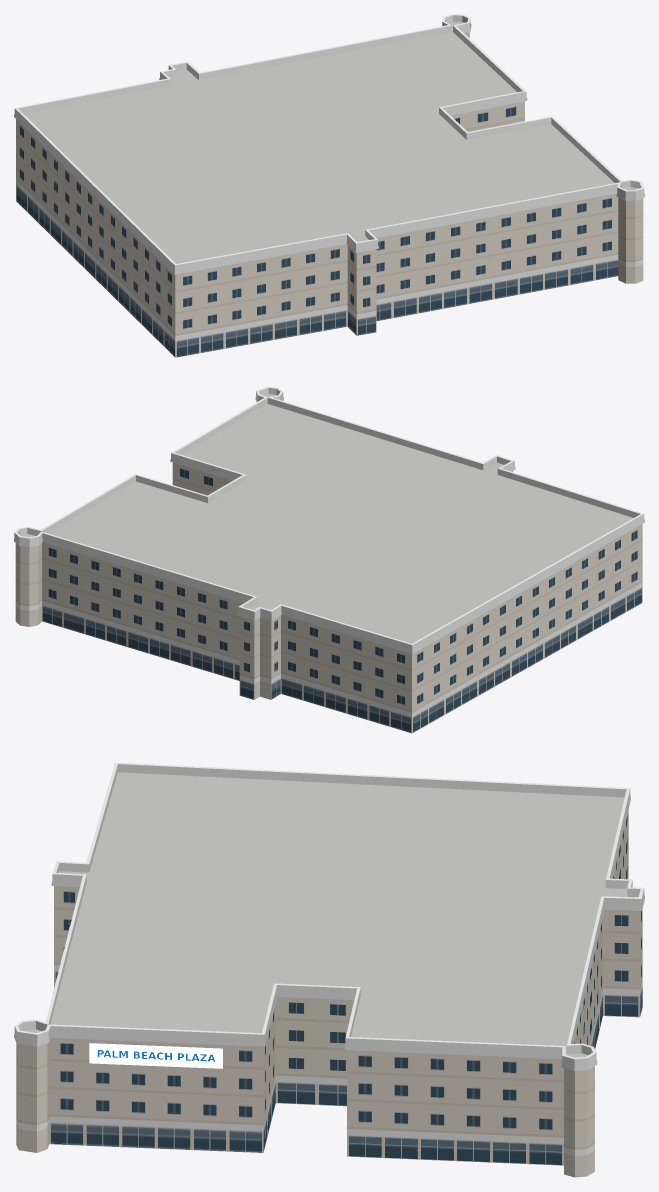
File: pbplaza.glb
The picture shows the model from 3 angles, top to bottom: view 1: azimuth 30°, elevation 25°; view 2: azimuth 150°, elevation 25°; view 3: azimuth 270°, elevation 25°; orthographic projection. The views are drawn at different scales.
Visible parts, largest first — view 1: pbplaza_lod0; view 2: pbplaza_lod0; view 3: pbplaza_lod0.
Part boxes in pixels (left/top/right/bottom): pbplaza_lod0: left=14, top=14, right=644, bottom=357; pbplaza_lod0: left=14, top=386, right=644, bottom=733; pbplaza_lod0: left=14, top=762, right=644, bottom=1177.
Size of what is drawn, in the model's own units: 115 by 21.5 by 103.
Materials: 5 (3 with a texture image).
